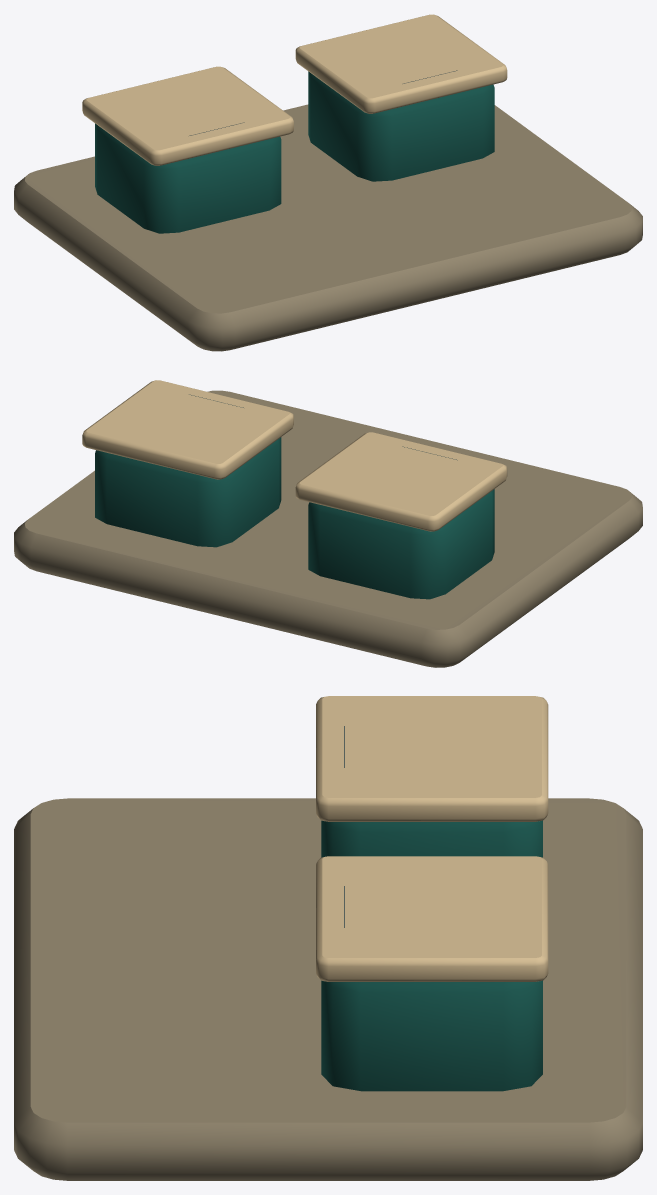
File: annex_market_2.glb
3 renders of one model, top to bottom at view 1: azimuth 30°, elevation 25°; view 2: azimuth 150°, elevation 25°; view 3: azimuth 270°, elevation 25°, orthographic. The views are drawn at different scales.
Parts seen in each view (by area): view 1: Annex_market_2; view 2: Annex_market_2; view 3: Annex_market_2.
Part boxes in pixels (left/top/right/bottom): Annex_market_2: left=14, top=14, right=642, bottom=351; Annex_market_2: left=14, top=380, right=642, bottom=667; Annex_market_2: left=14, top=696, right=642, bottom=1180.
Bounding box in the file's own units: 2.24 × 0.5924 × 1.76.
